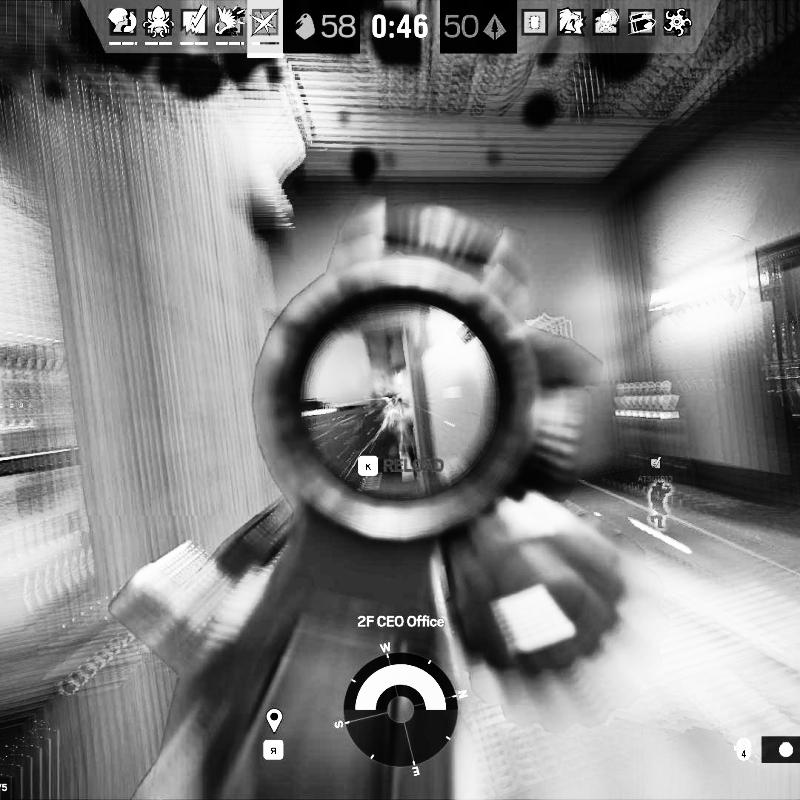Character: (378, 390, 420, 481)
Friend_label: (636, 456, 674, 484)
Head: (384, 392, 397, 410)
